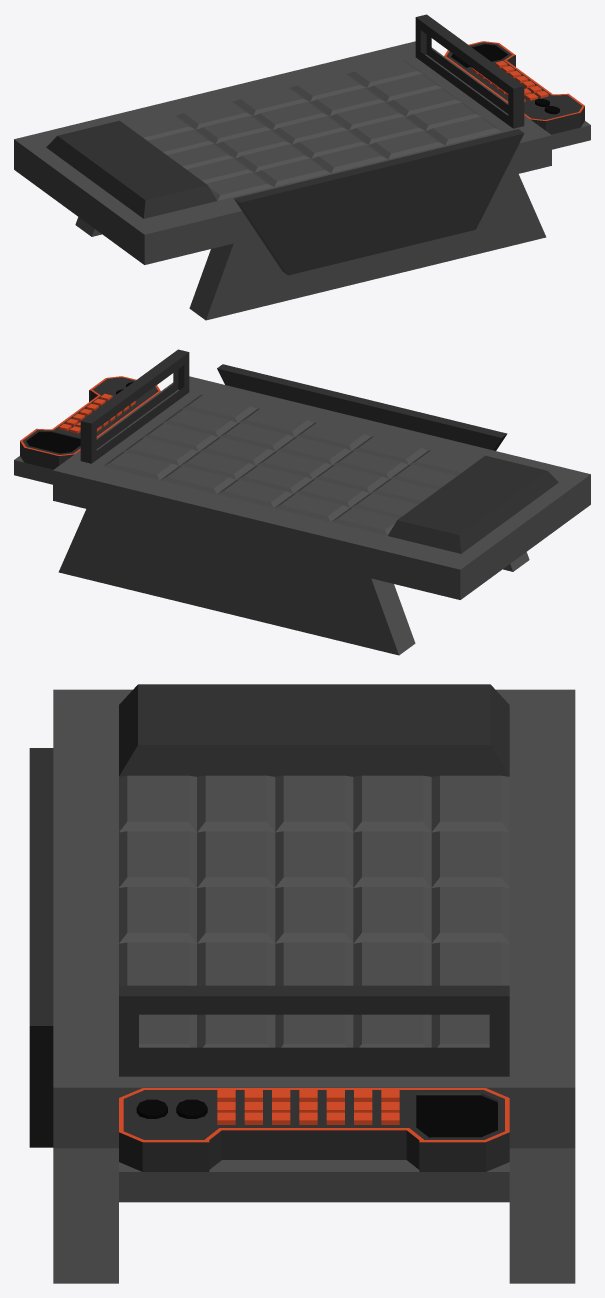
Rendered from bed.fbx.
3 views of the same model, one above another, from view 1: azimuth 30°, elevation 25°; view 2: azimuth 150°, elevation 25°; view 3: azimuth 270°, elevation 25° (orthographic). The views are drawn at different scales.
Visible parts, largest first — view 1: bed; view 2: bed; view 3: bed.
Boxes of the visible parts, left/top/right/bottom form: bed: left=14, top=14, right=590, bottom=320; bed: left=14, top=349, right=590, bottom=655; bed: left=29, top=684, right=575, bottom=1283.
Size of the model in its own units: 410 by 119 by 209.
